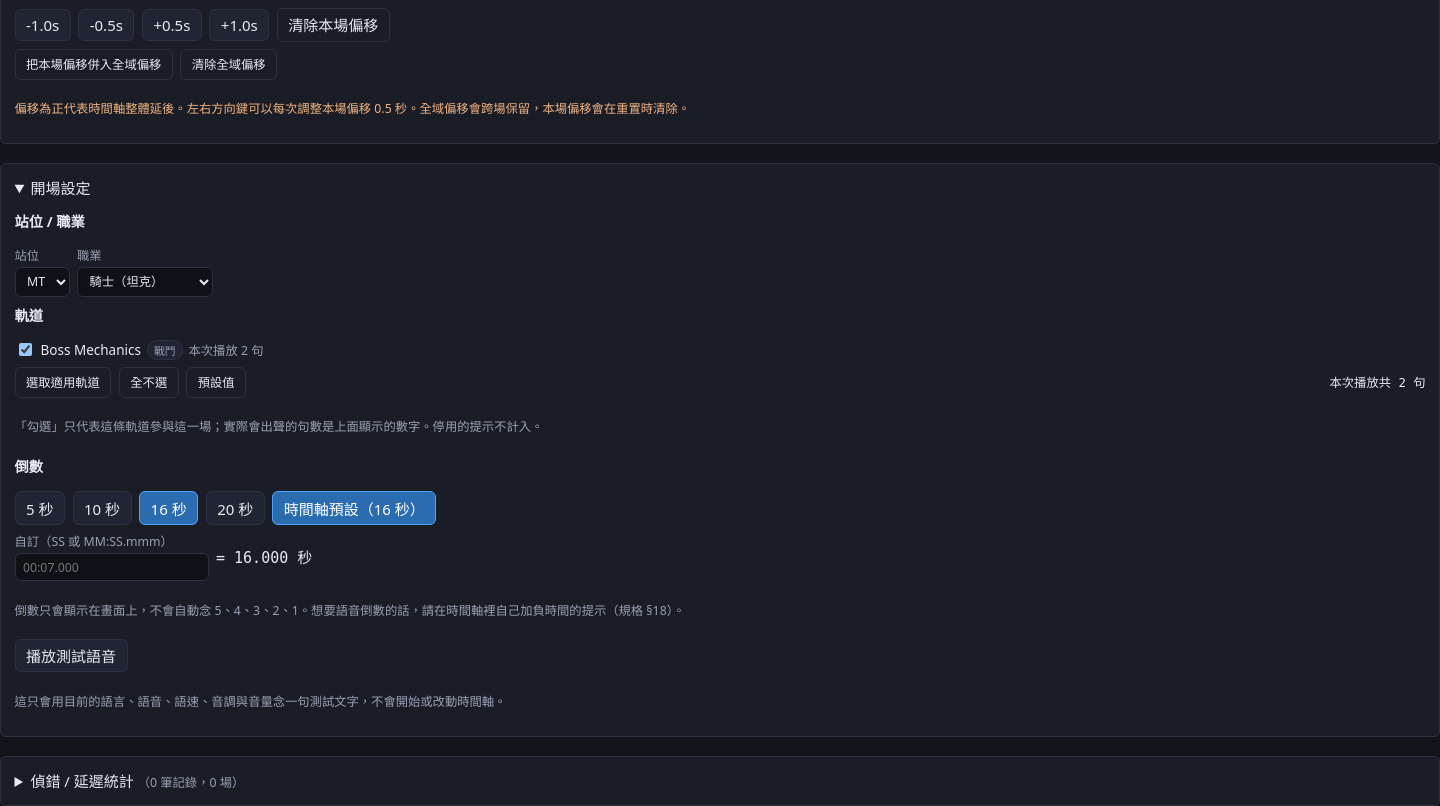
Player flow › shows Traditional Chinese job names and gives voice-test feedback
(page scrolled)
Click the button "播放測試語音" at (71, 656), box [14,639,128,672]
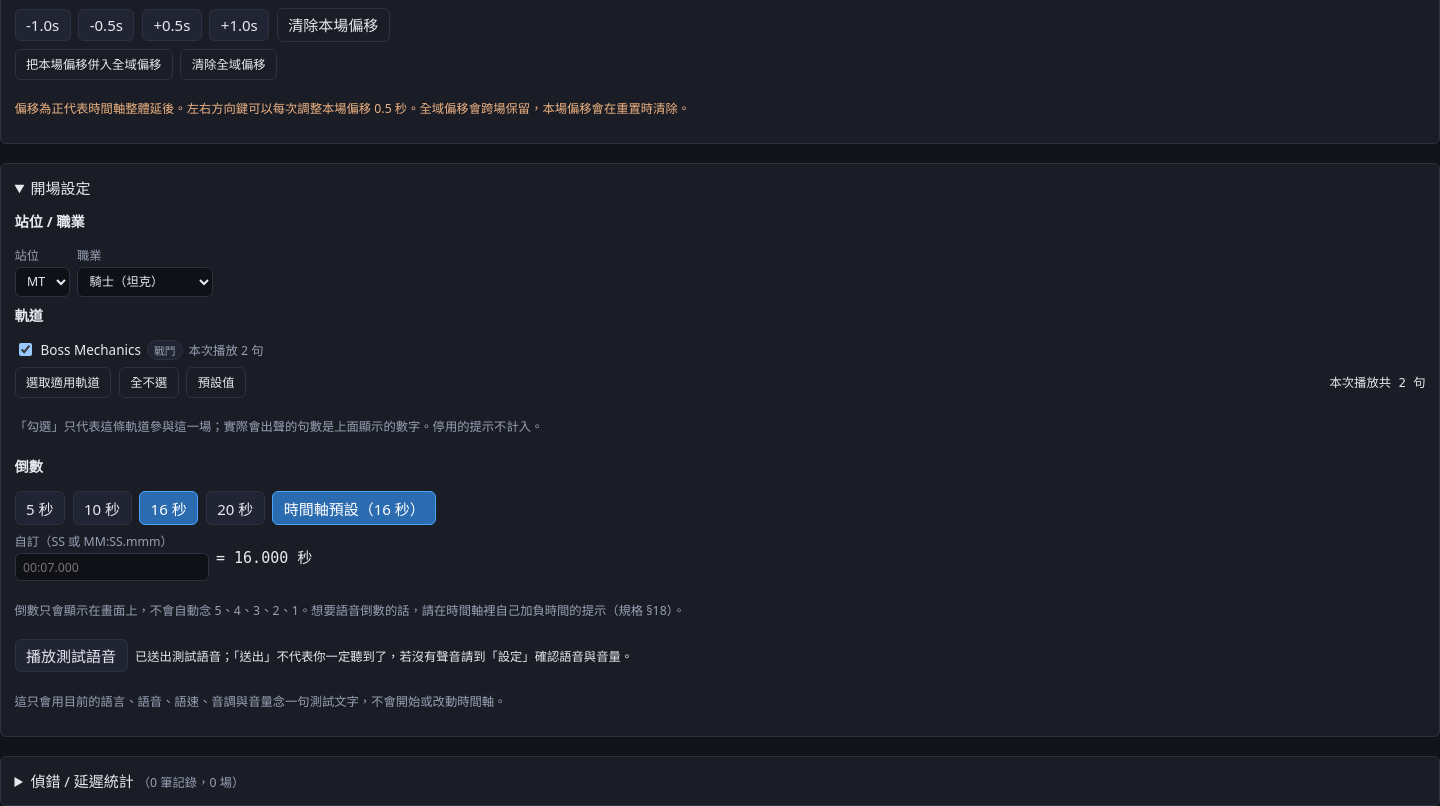
Check: the text "已送出測試語音；「送出」不代表你一定聽到了，若沒有聲音請到「設定」確認語音與音量。" is shown, box [135,647,633,665]
